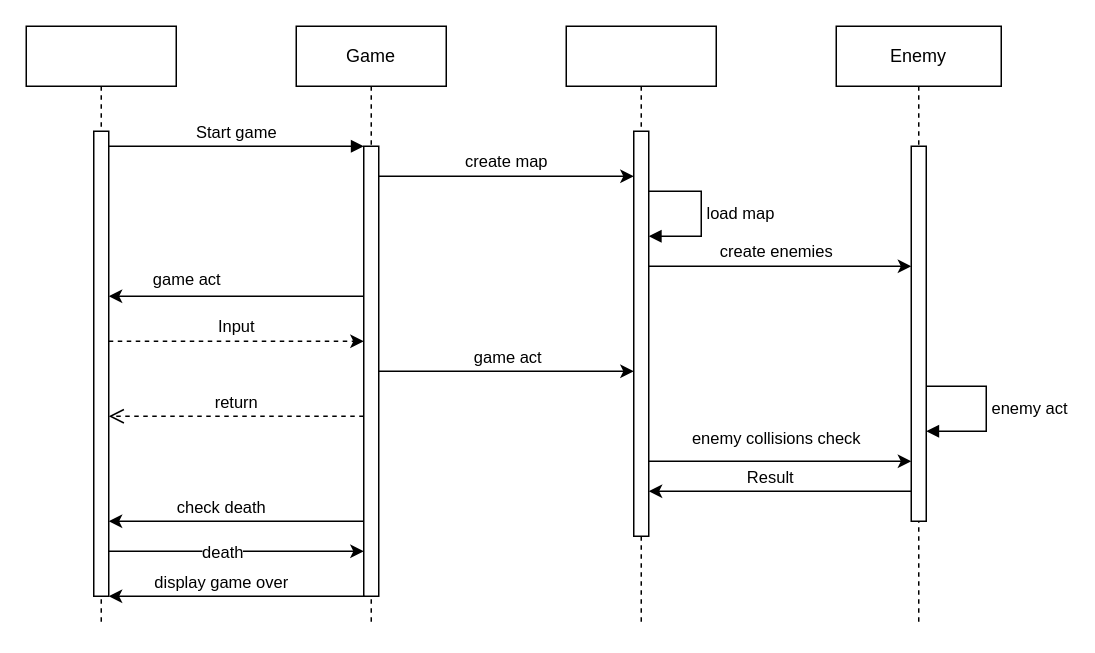
Some shapes in this 1095 by 653 pixel diagram are drawn without their labels. Each missing label, with the box of its shape:
Map: (565, 25, 716, 626)
Player: (25, 25, 176, 626)
